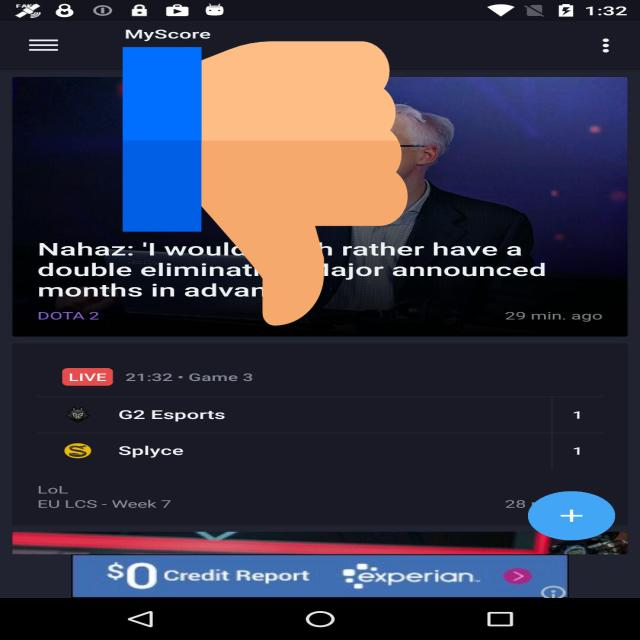obstruction: (122, 34, 408, 333)
